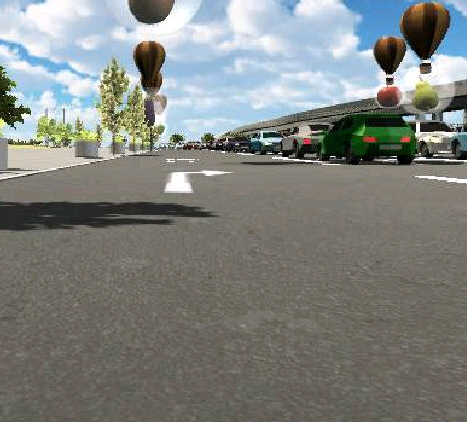ground_right: (168, 169, 234, 178)
